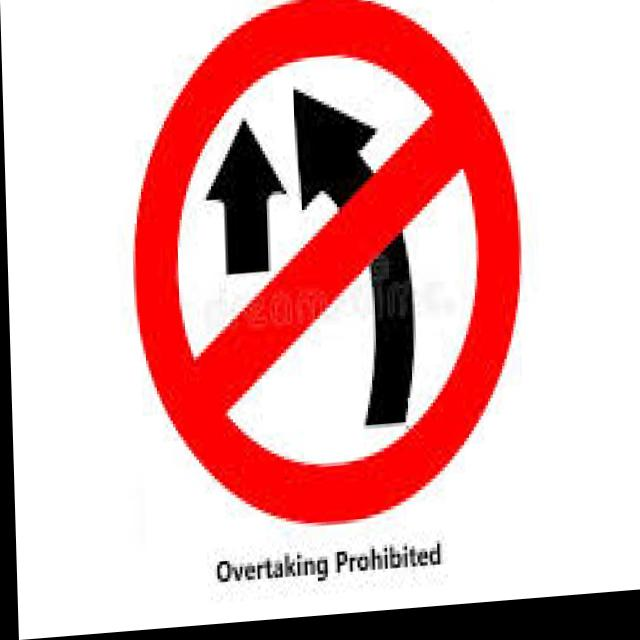OVERTAKING_PROHIBITED: (124, 0, 521, 542)
